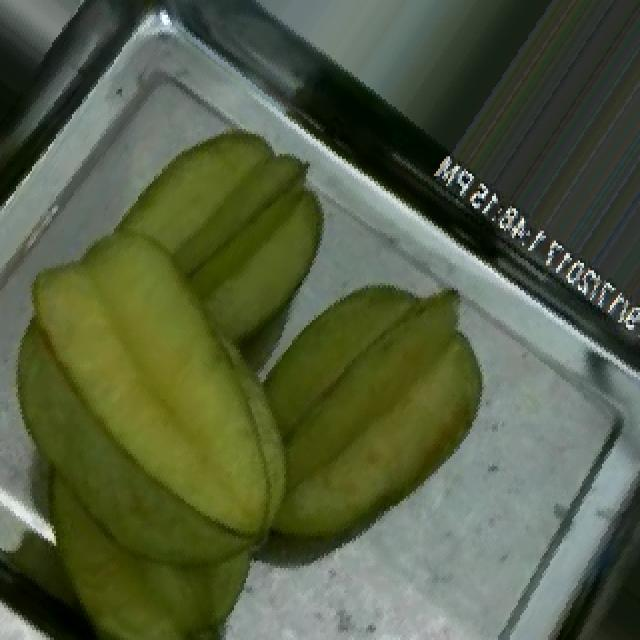fruit: (220, 233, 536, 588), (94, 92, 374, 404)
